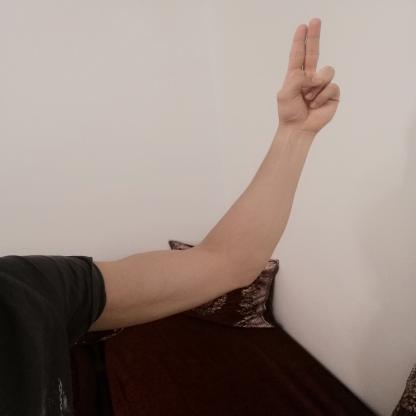TA: (261, 11, 352, 139)
